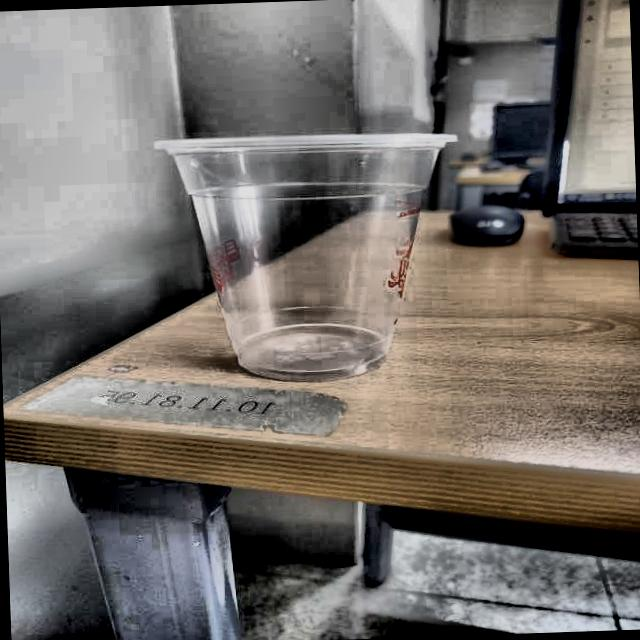plastic cup: (152, 128, 467, 386)
